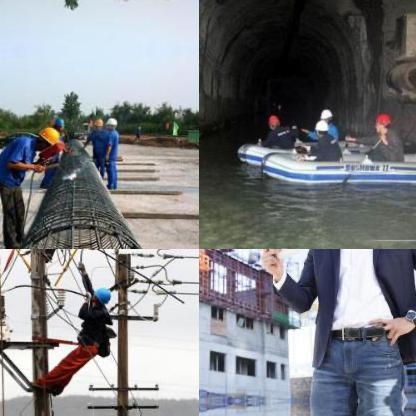Helmet: (34, 124, 60, 152), (372, 108, 390, 132), (90, 284, 108, 302), (312, 118, 328, 136), (104, 114, 118, 130), (268, 112, 280, 128), (320, 107, 332, 122), (52, 114, 64, 128), (92, 116, 102, 128)
